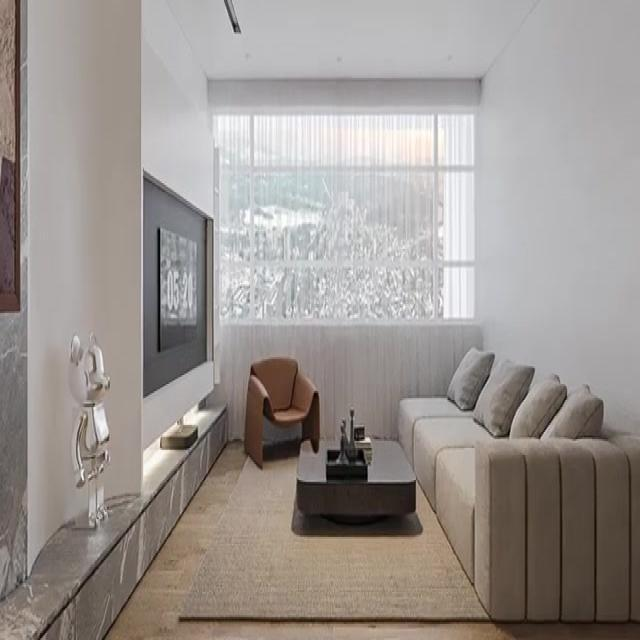obstacle: (397, 350, 639, 624), (295, 436, 416, 524), (243, 356, 320, 470)
